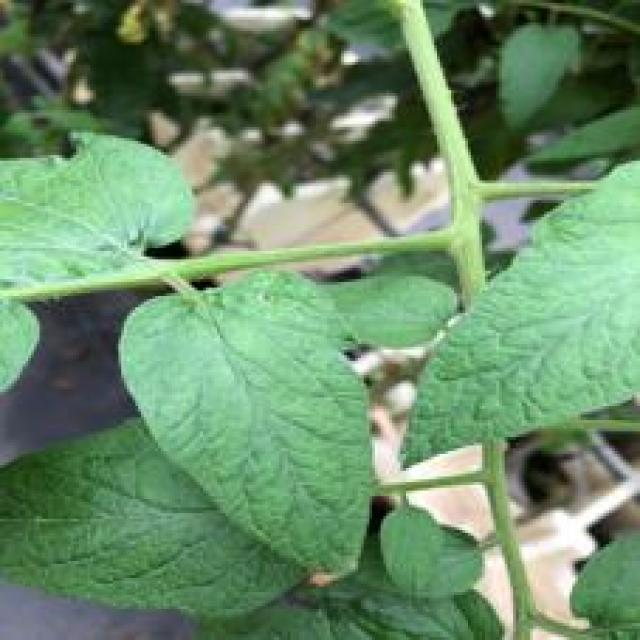Tomato healthy leaf: (116, 293, 378, 575), (403, 164, 640, 465), (0, 133, 195, 288), (378, 507, 485, 603)
